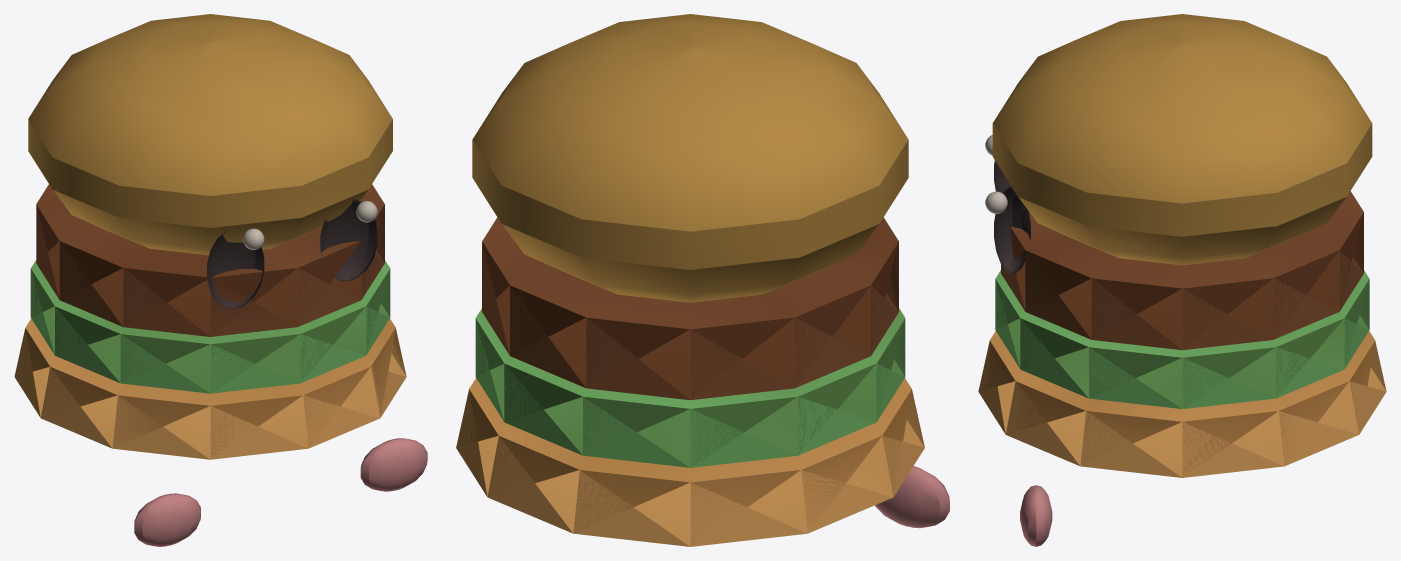
The picture shows the model from 3 angles, left to right: view 1: azimuth 30°, elevation 25°; view 2: azimuth 150°, elevation 25°; view 3: azimuth 270°, elevation 25°; orthographic projection. The views are drawn at different scales.
Visible parts, largest first — view 1: pet_p05258e44; view 2: pet_p05258e44; view 3: pet_p05258e44.
Boxes of the visible parts, <box> form: pet_p05258e44: <box>14,14,427,546</box>; pet_p05258e44: <box>456,14,949,546</box>; pet_p05258e44: <box>978,14,1386,546</box>.
Bounding box in the file's own units: 0.36 × 0.4287 × 0.36.
